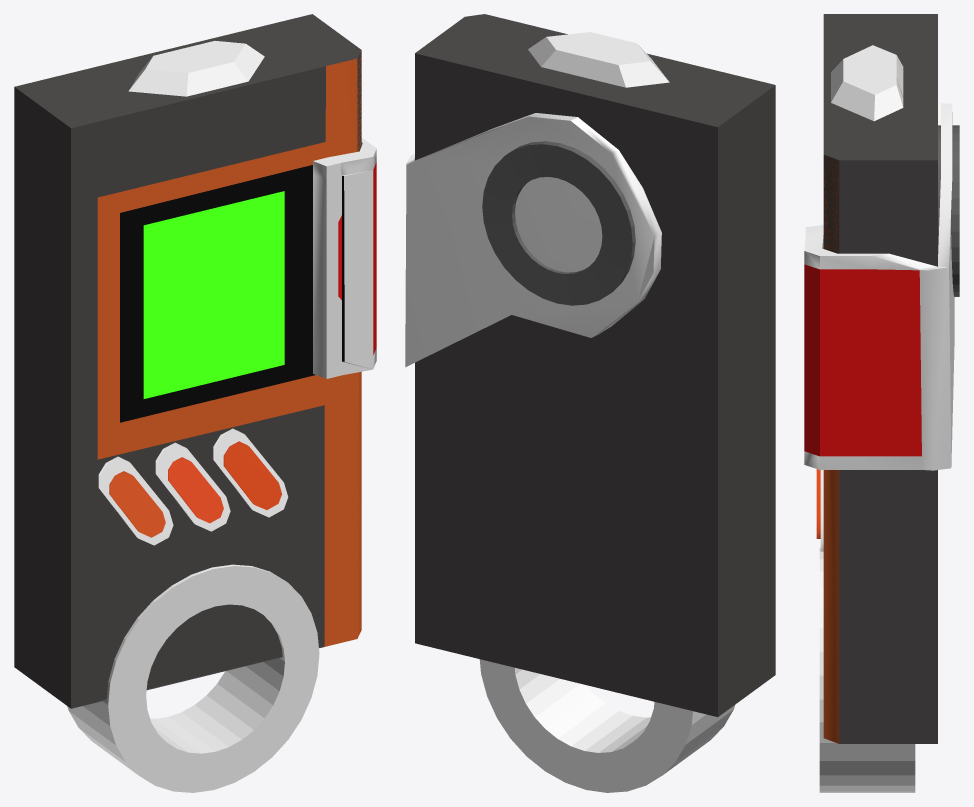
The model's file is digivice.glb.
3 views of the same model, side by side, from view 1: azimuth 30°, elevation 25°; view 2: azimuth 150°, elevation 25°; view 3: azimuth 270°, elevation 25° (orthographic).
Visible parts, largest first — view 1: Plane, Circle, Plane.001, Plane.002, Plane.005, Plane.003, Plane.004, Plane.007, Plane.006, Plane.008; view 2: Plane, Plane.001, Circle, Circle.001, Plane.002; view 3: Plane, Plane.001, Circle, Plane.002, Circle.001, Plane.005, Plane.008.
Part boxes in pixels (<box>): Plane: <box>14,14,361,708</box>; Circle: <box>67,564,319,792</box>; Plane.001: <box>313,138,376,378</box>; Plane.002: <box>128,41,264,96</box>; Plane.005: <box>223,441,281,509</box>; Plane.003: <box>109,471,165,537</box>; Plane.004: <box>168,457,223,523</box>; Plane.007: <box>155,442,230,531</box>; Plane.006: <box>98,456,173,545</box>; Plane.008: <box>213,428,288,517</box>; Plane: <box>415,14,775,716</box>; Plane.001: <box>405,113,661,367</box>; Circle: <box>479,659,734,792</box>; Circle.001: <box>482,141,635,305</box>; Plane.002: <box>528,32,669,87</box>; Plane: <box>823,14,937,743</box>; Plane.001: <box>804,103,954,470</box>; Circle: <box>819,548,915,792</box>; Plane.002: <box>831,45,903,121</box>; Circle.001: <box>938,125,959,296</box>; Plane.005: <box>816,469,820,538</box>; Plane.008: <box>820,470,823,551</box>.
Bounding box in the file's own units: 1.33 × 2.96 × 0.5812.
